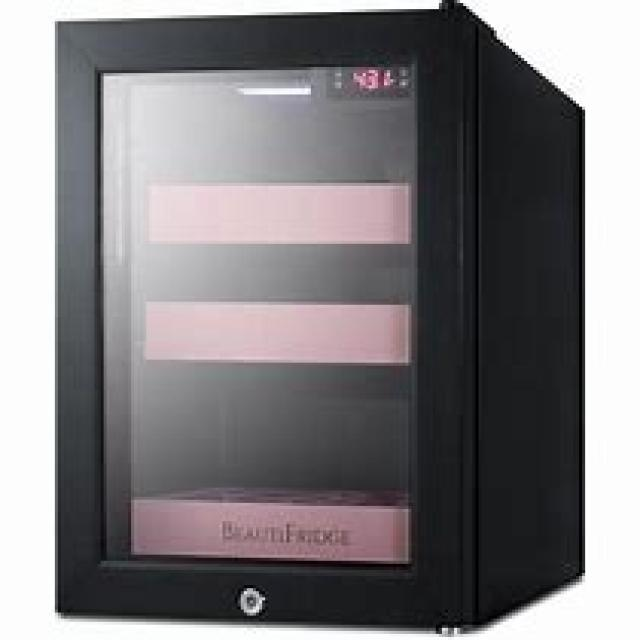fridge: (52, 0, 585, 634)
